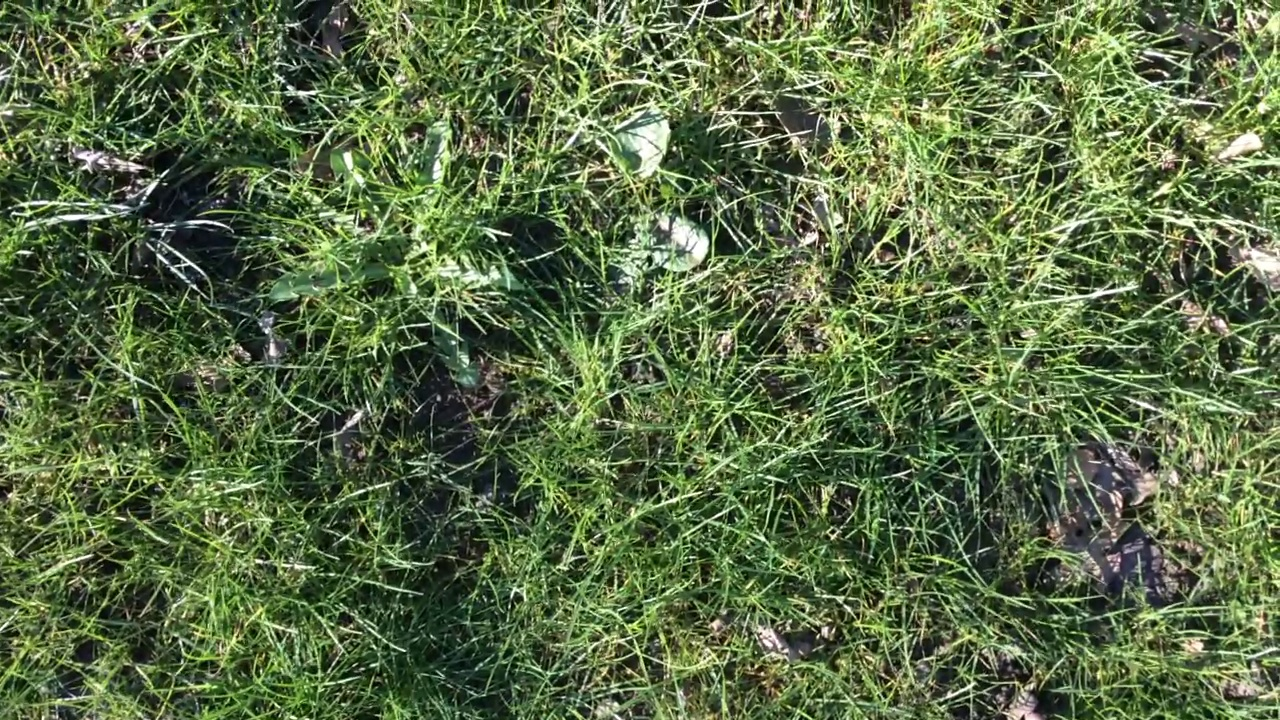rumex: (618, 112, 673, 178), (647, 216, 710, 270)
